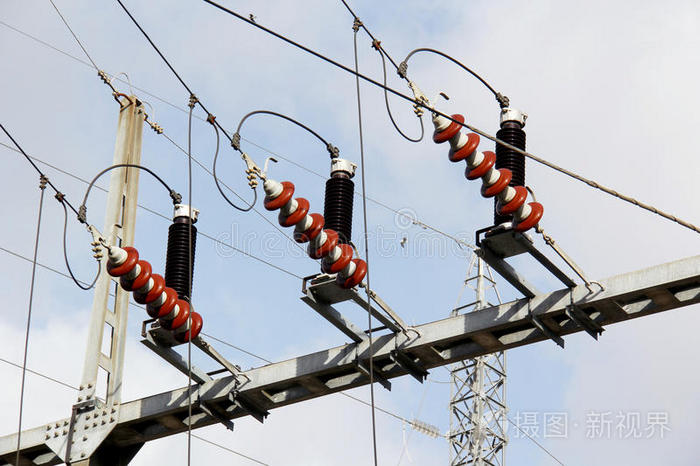insulator: (433, 113, 542, 229), (265, 177, 368, 288), (110, 247, 202, 342)
